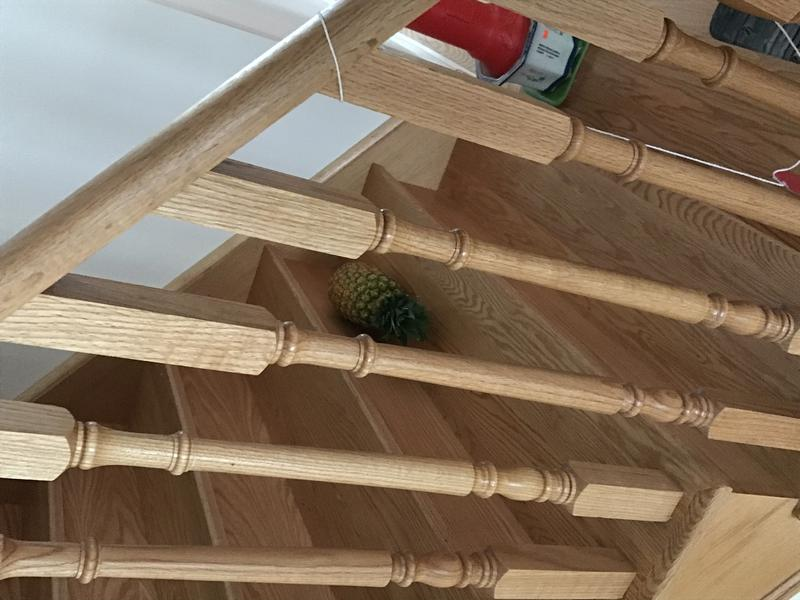pineapple: (324, 258, 444, 354)
